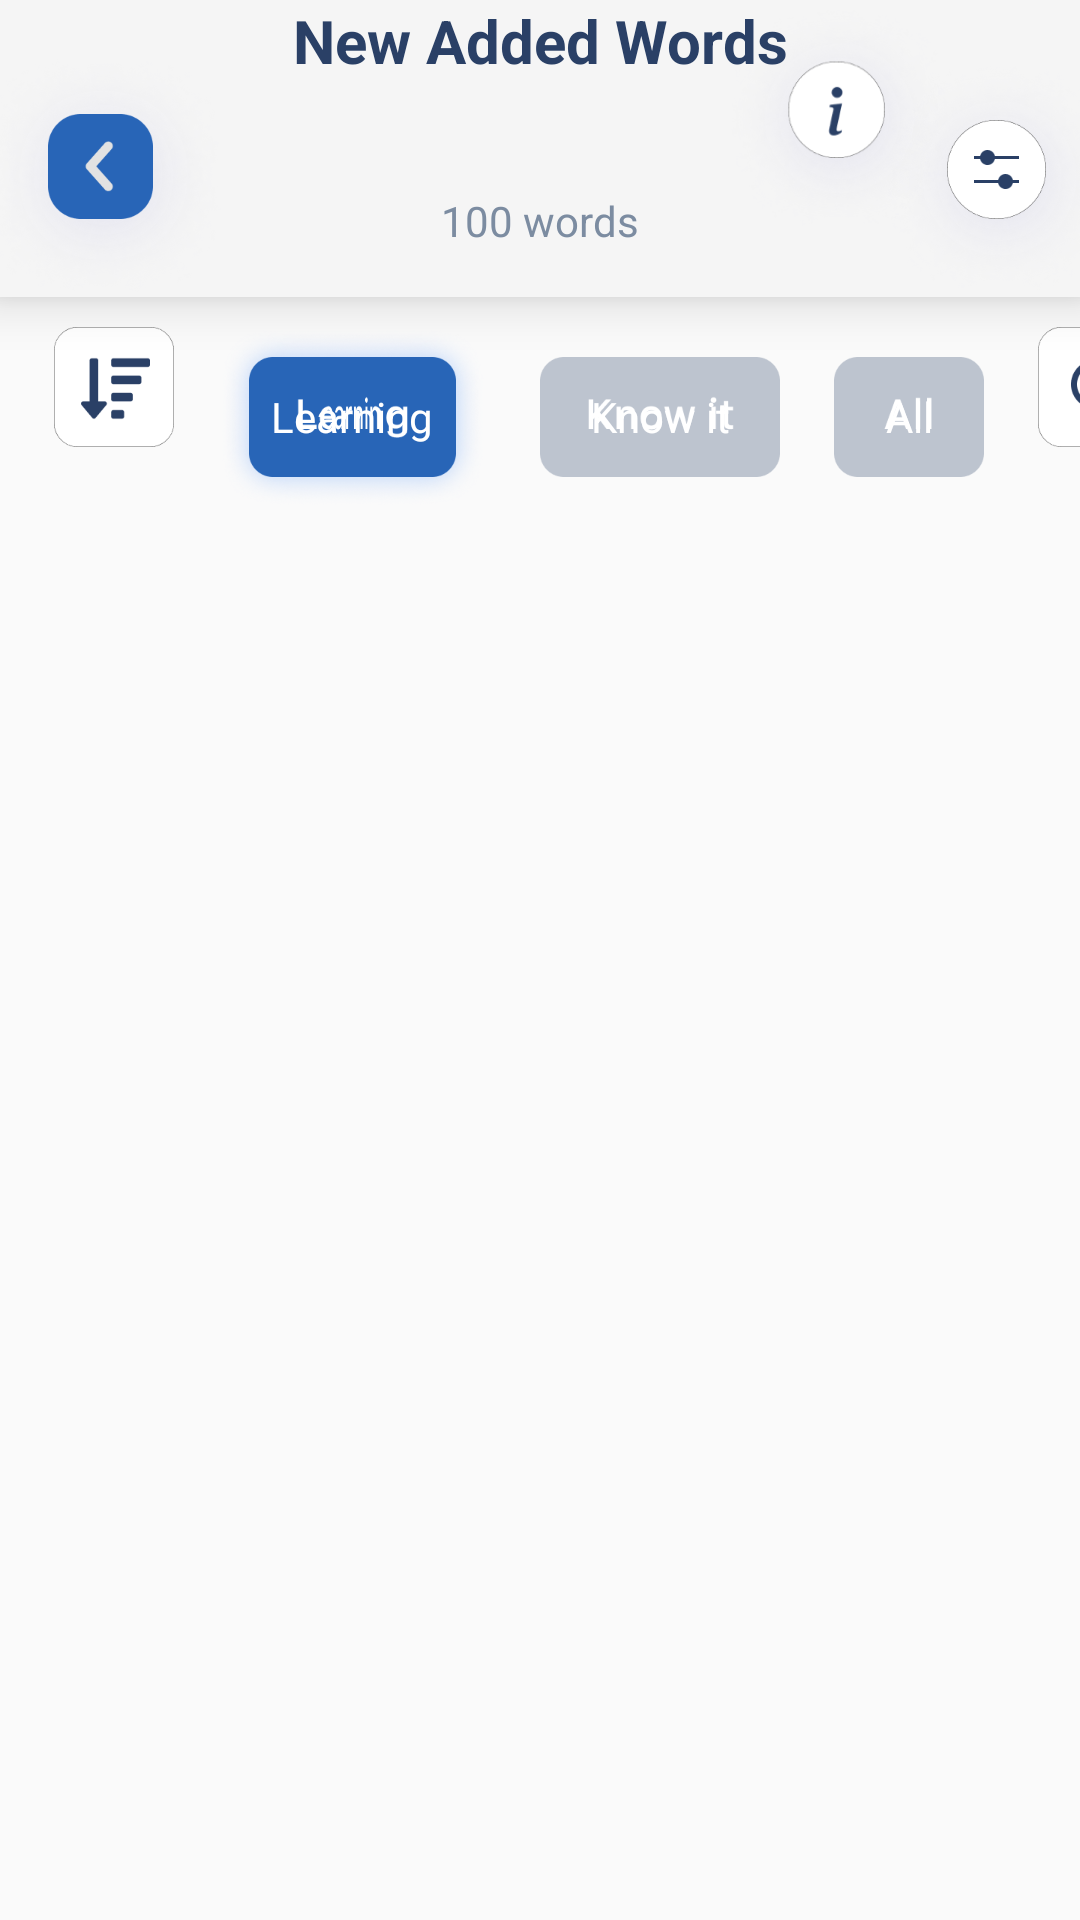

Named icons in this screenshot (1080 × 1920) and their centers, point (x, y):
backword: point (100, 166)
sortdown: point (114, 387)
